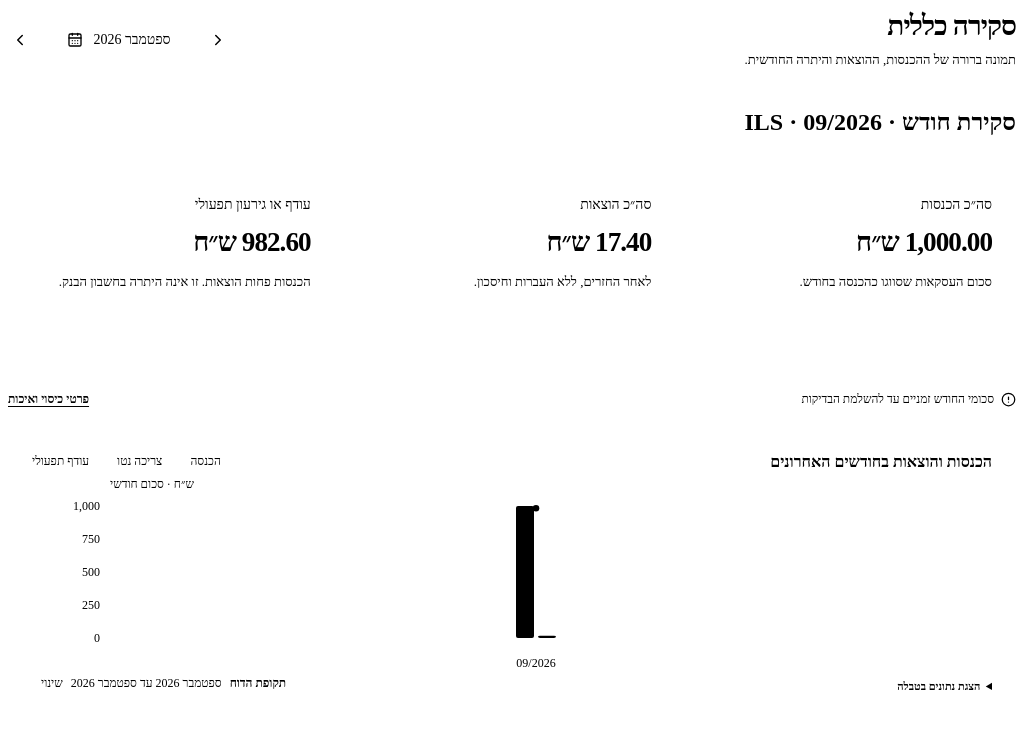
Test: dashboard feature adapters › keeps the reporting month independent of the graph range and hides missing-month zeros
This screenshot has width=1024, height=752.
Expected: the heading "סקירת חודש · 09/2026 · ILS" is shown, left=744, top=109, right=1016, bottom=135
Click the button "תקופת הדוח ספטמבר 2026 עד ספטמבר 2026 שינוי" at (164, 683), box left=32, top=665, right=295, bottom=701
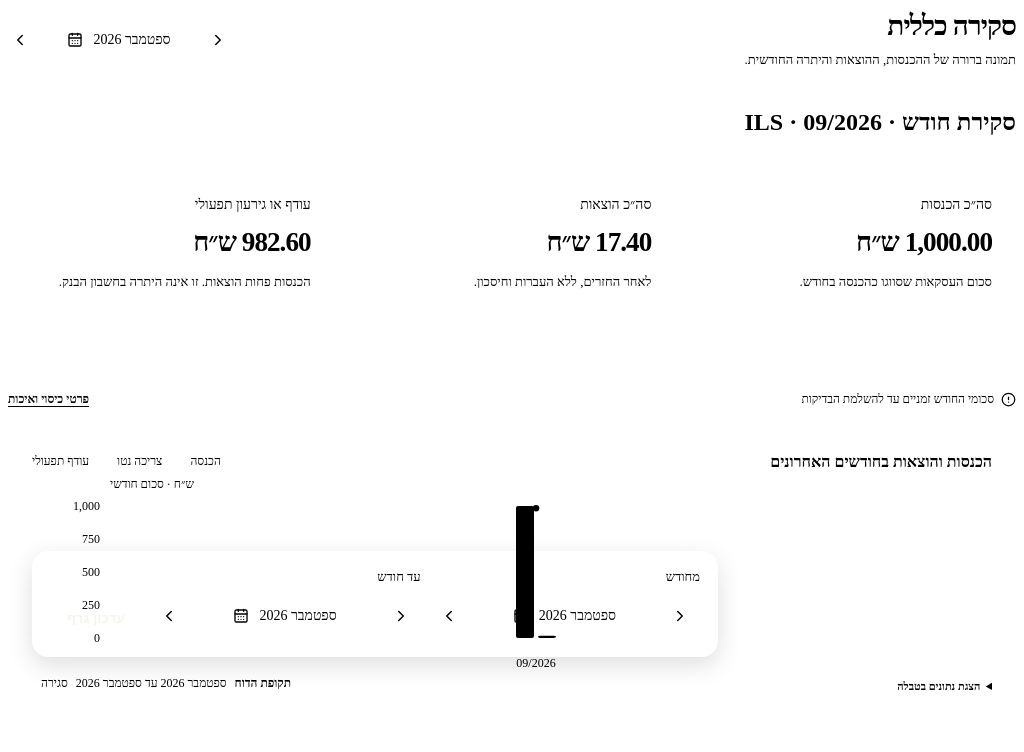
Click the button with aria-label "חודש סיום" at (285, 616), box left=185, top=597, right=385, bottom=635
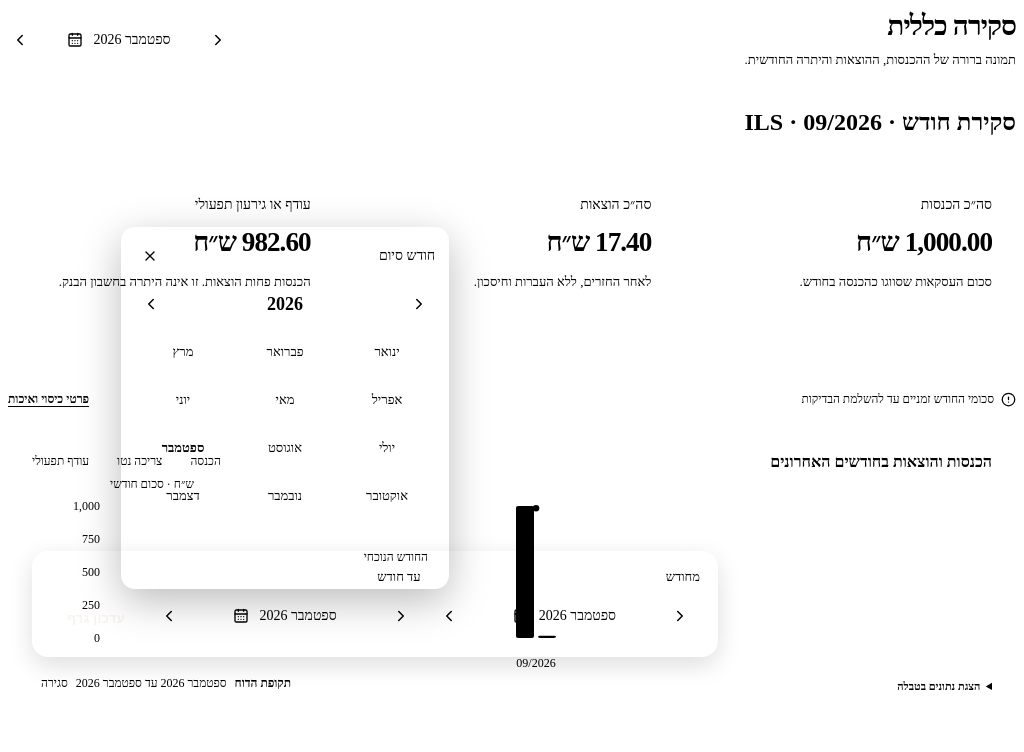
Click the button with aria-label "אוקטובר 2026" at (387, 496), box left=339, top=475, right=435, bottom=517
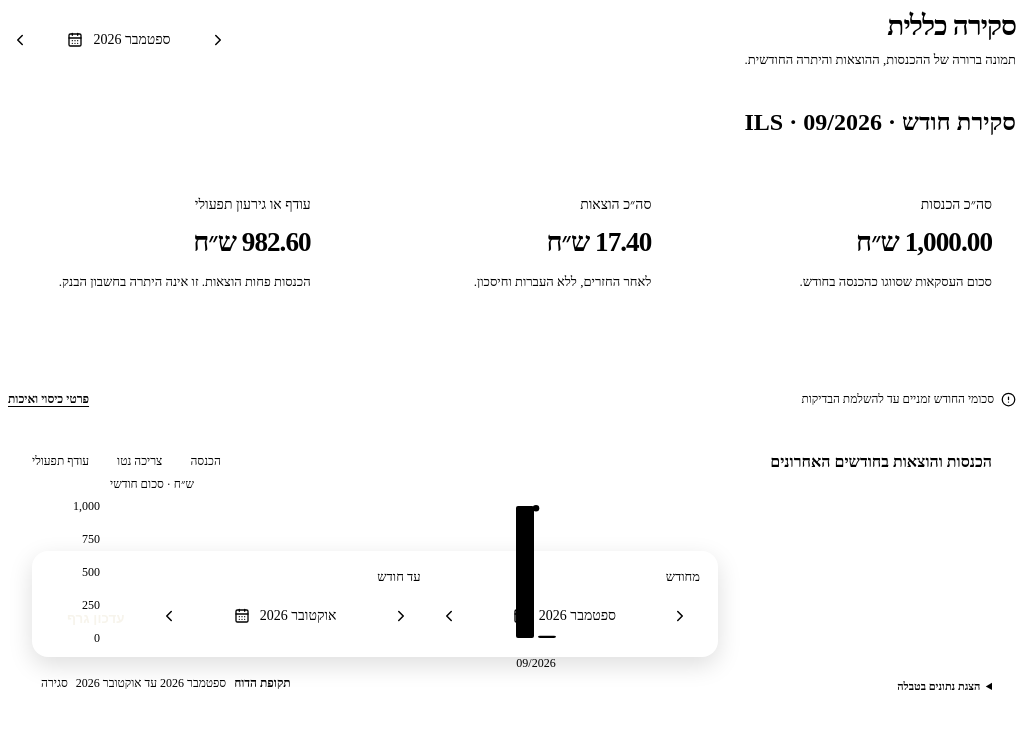
Now the dialog is gone
Click the button "עדכון גרף" at (96, 618), box left=50, top=597, right=141, bottom=639
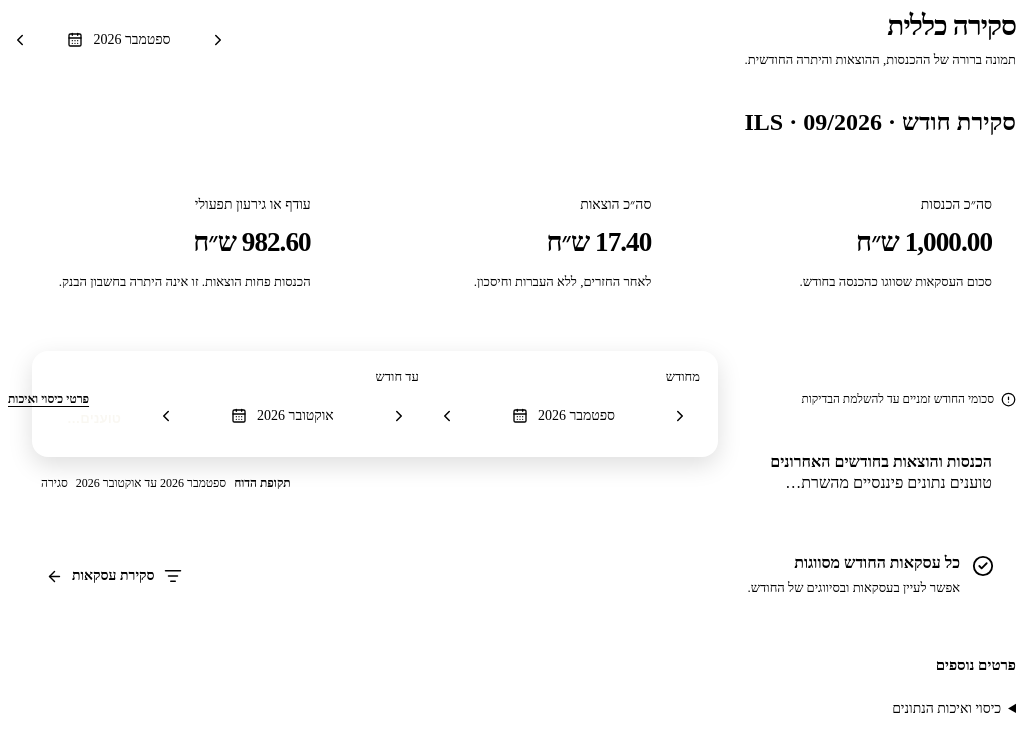
Click the button with aria-label "חודש לסקירה" at (119, 40), box left=36, top=21, right=202, bottom=59
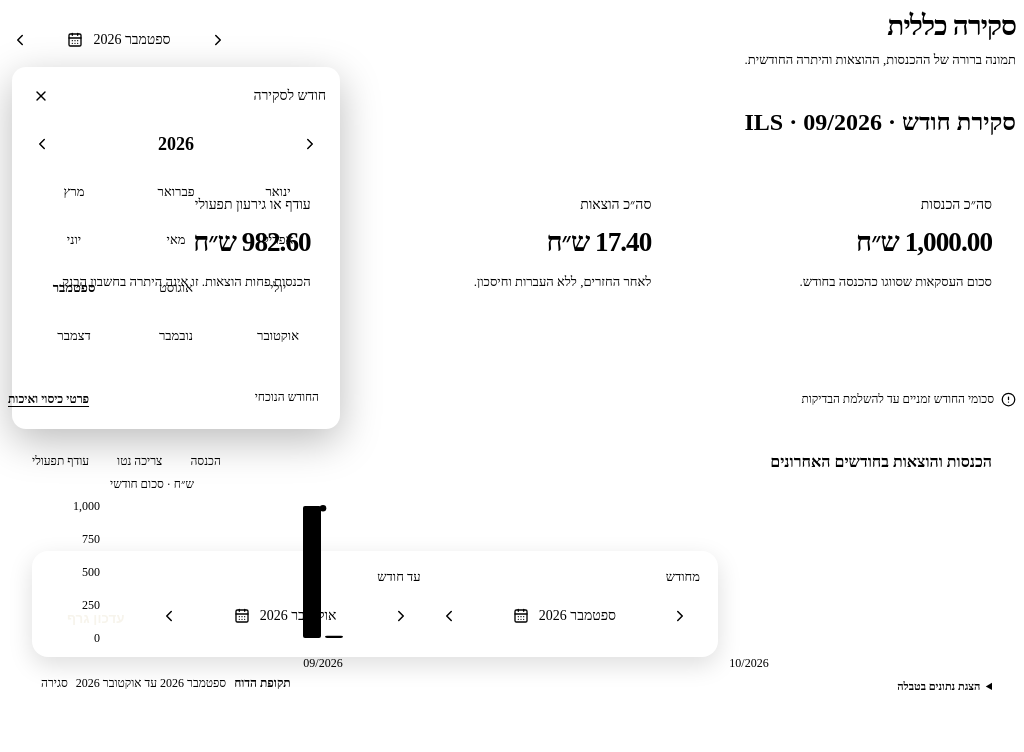
Click the button with aria-label "אוקטובר 2026" at (278, 336), box left=230, top=315, right=326, bottom=357
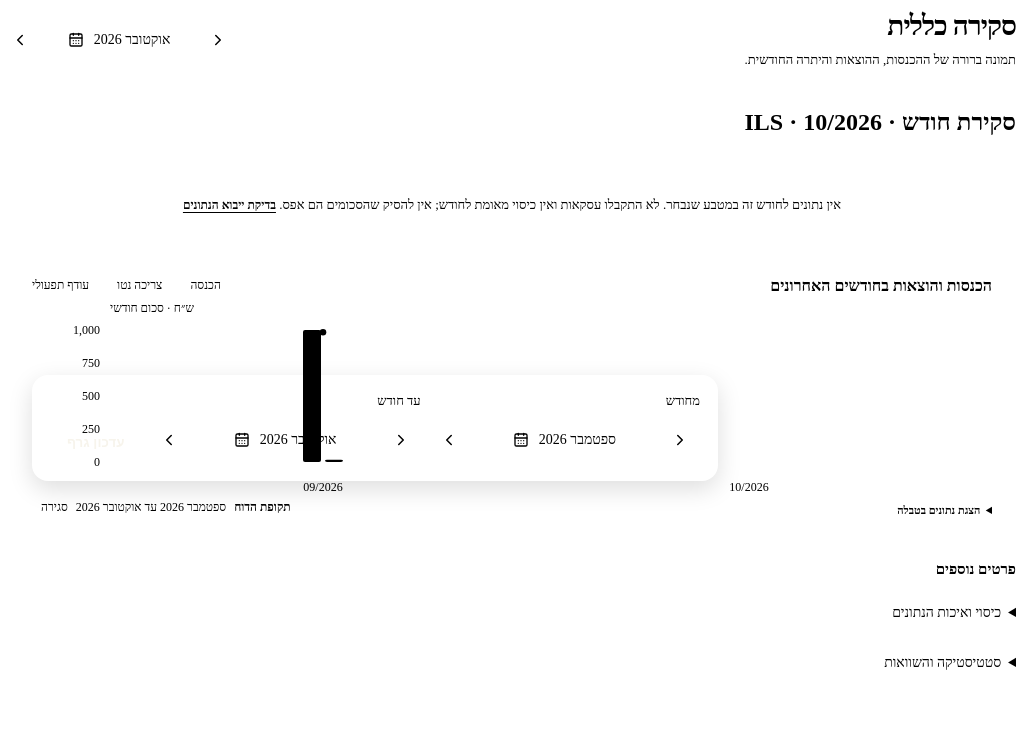
Now the dialog is gone
Now the text "אין נתונים לחודש זה במטבע שנבחר" is shown, box left=276, top=197, right=841, bottom=212
Now the heading "סה״כ הכנסות" is gone
